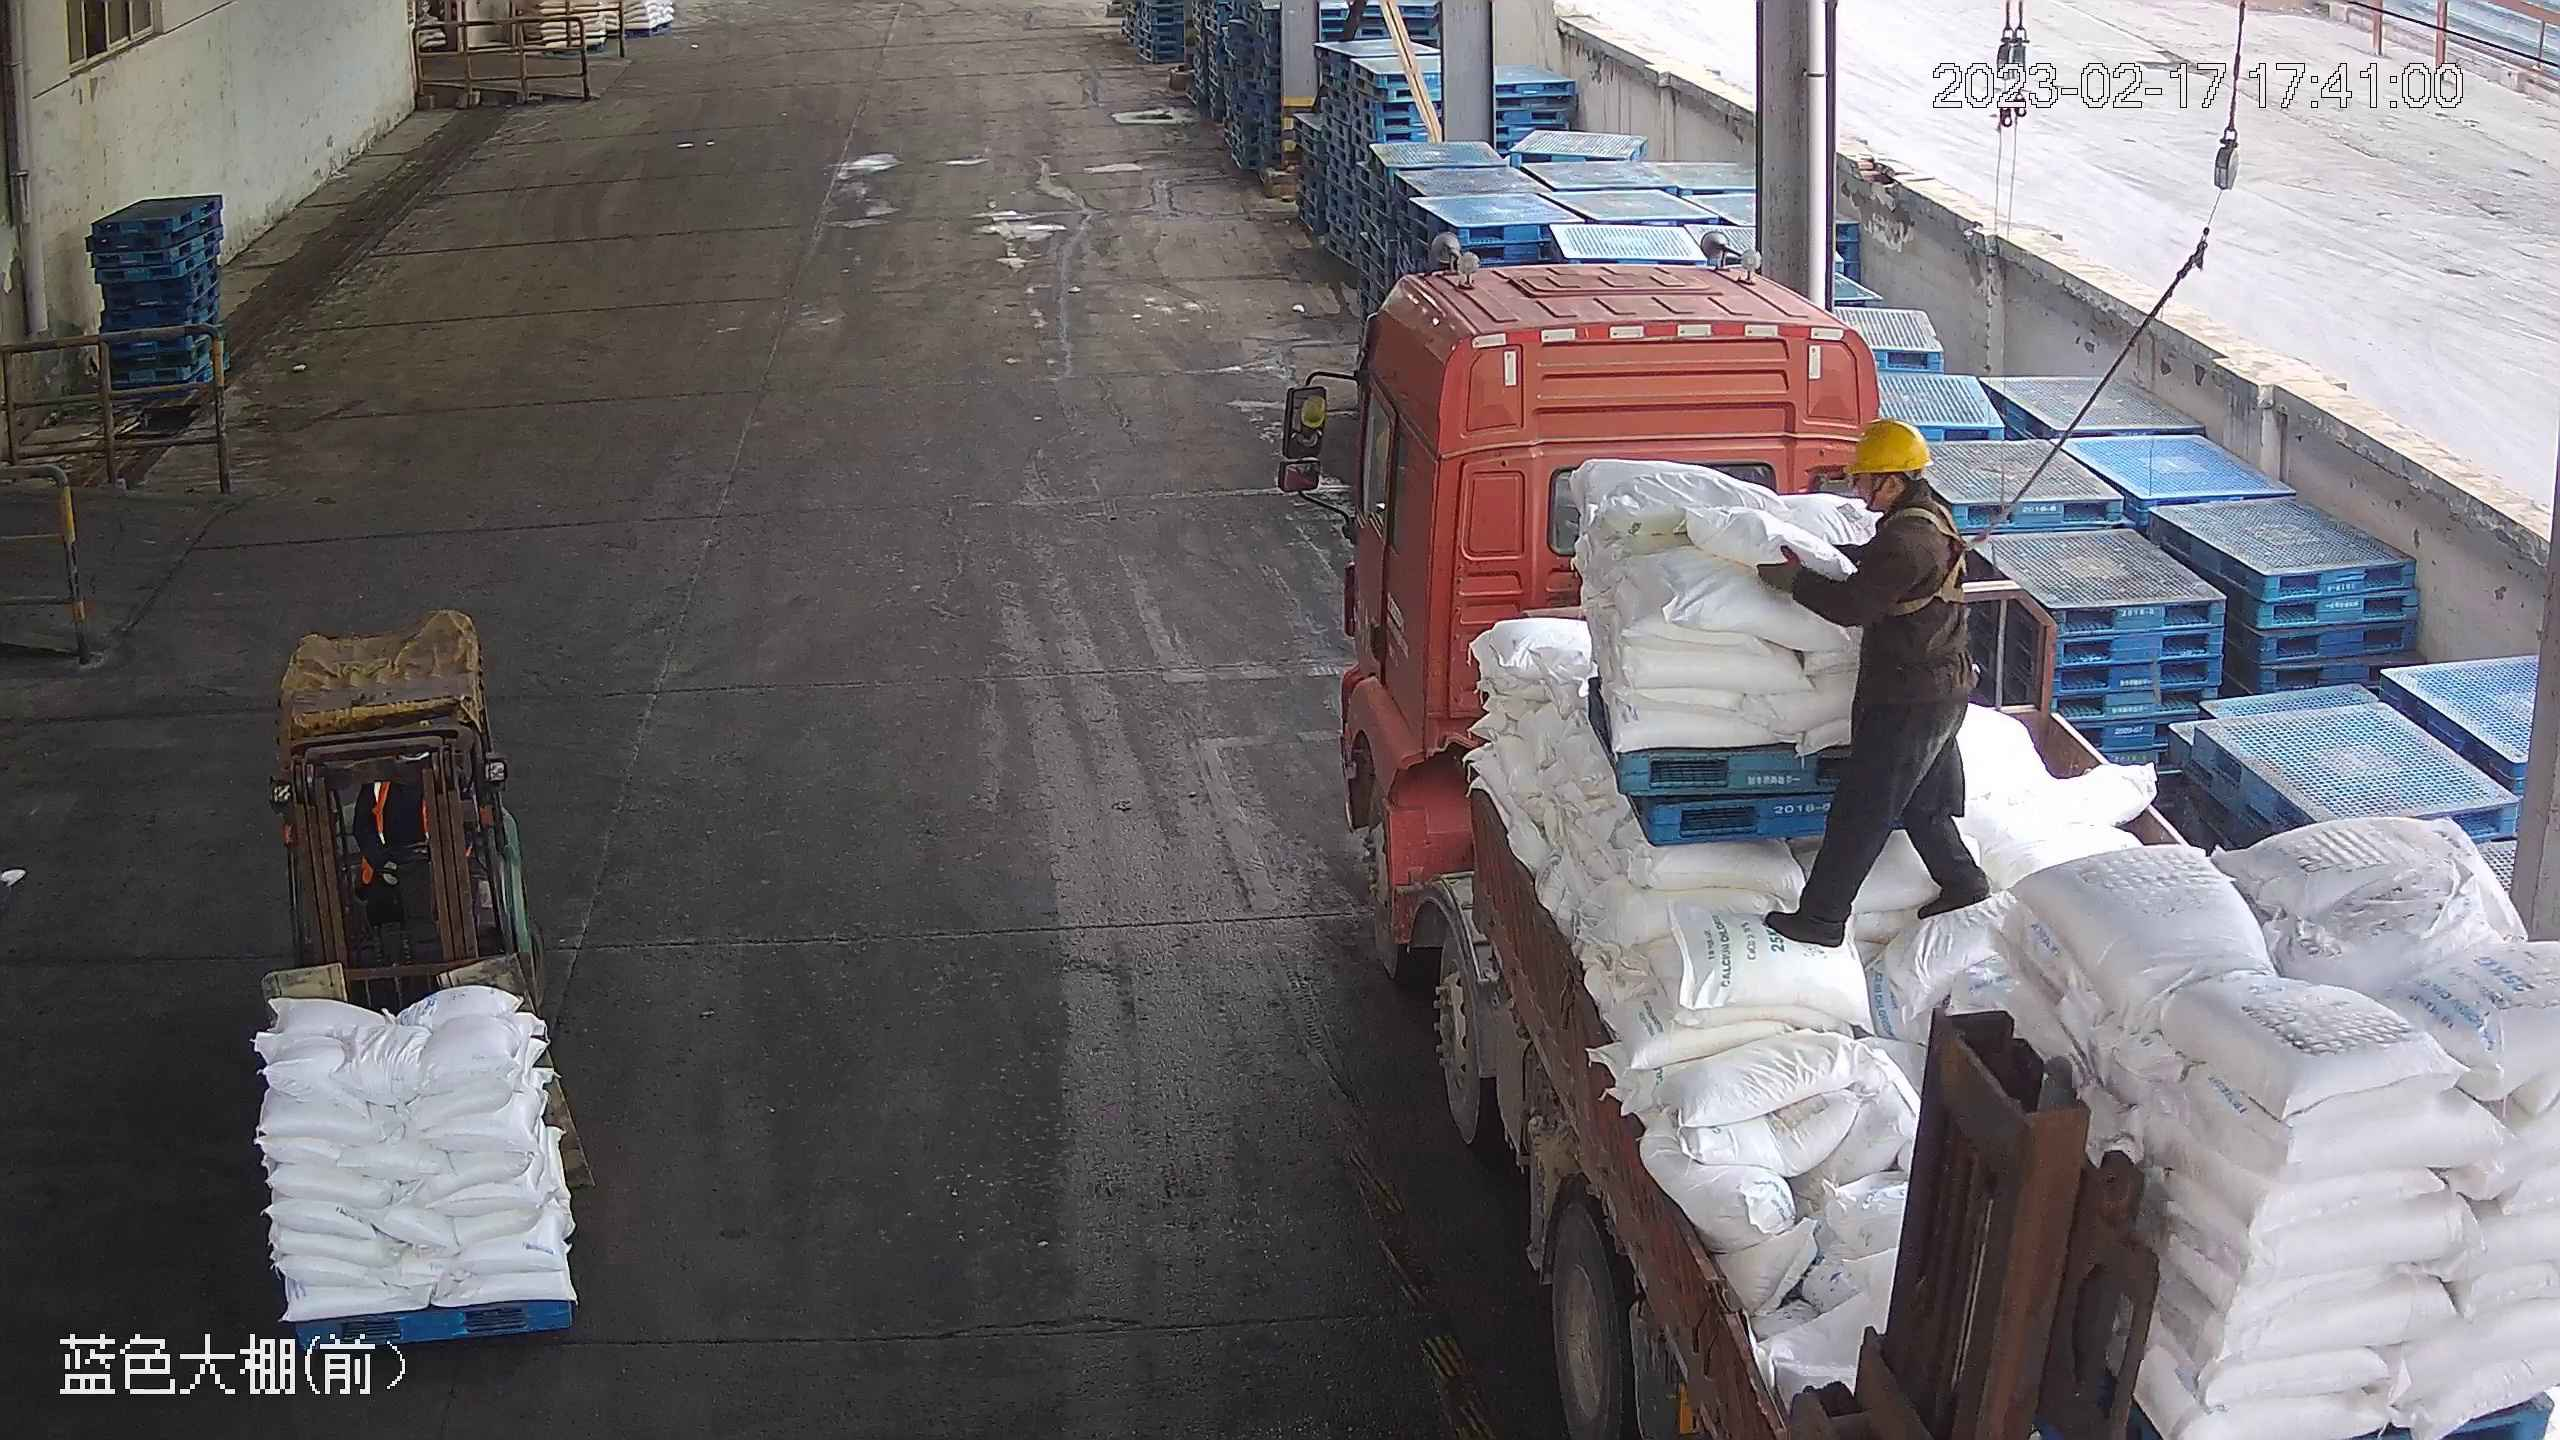belt: (1874, 496, 1985, 619)
head: (1833, 412, 1961, 572)
helmet: (1841, 414, 1931, 475)
people: (1751, 416, 1988, 943)
truck: (1266, 235, 2557, 1429)
